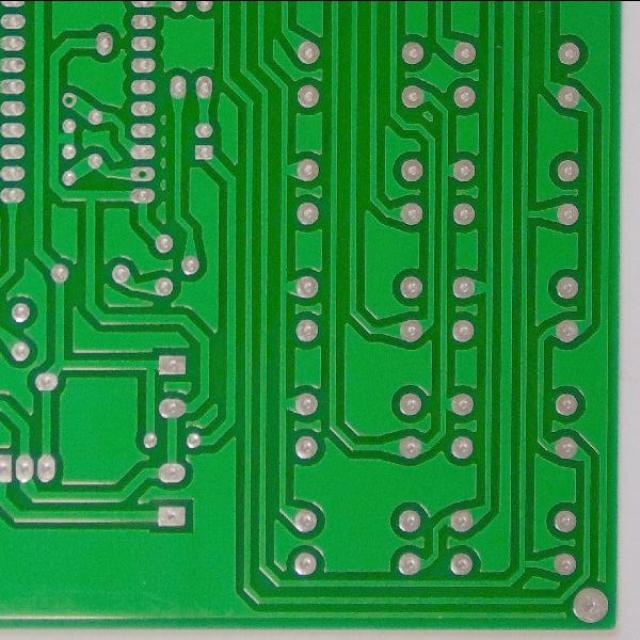Missing_Hole: (129, 163, 157, 184), (61, 90, 79, 108)
